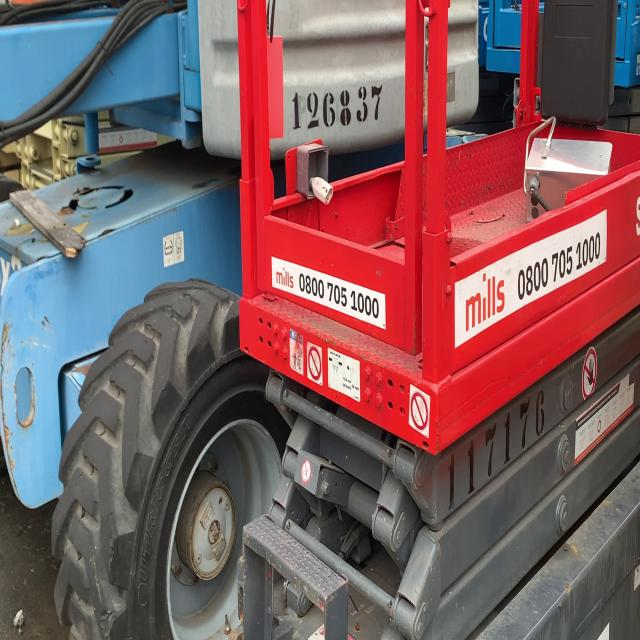Adesivo Longo: (454, 205, 609, 354)
Adesivos: (270, 254, 387, 332)
